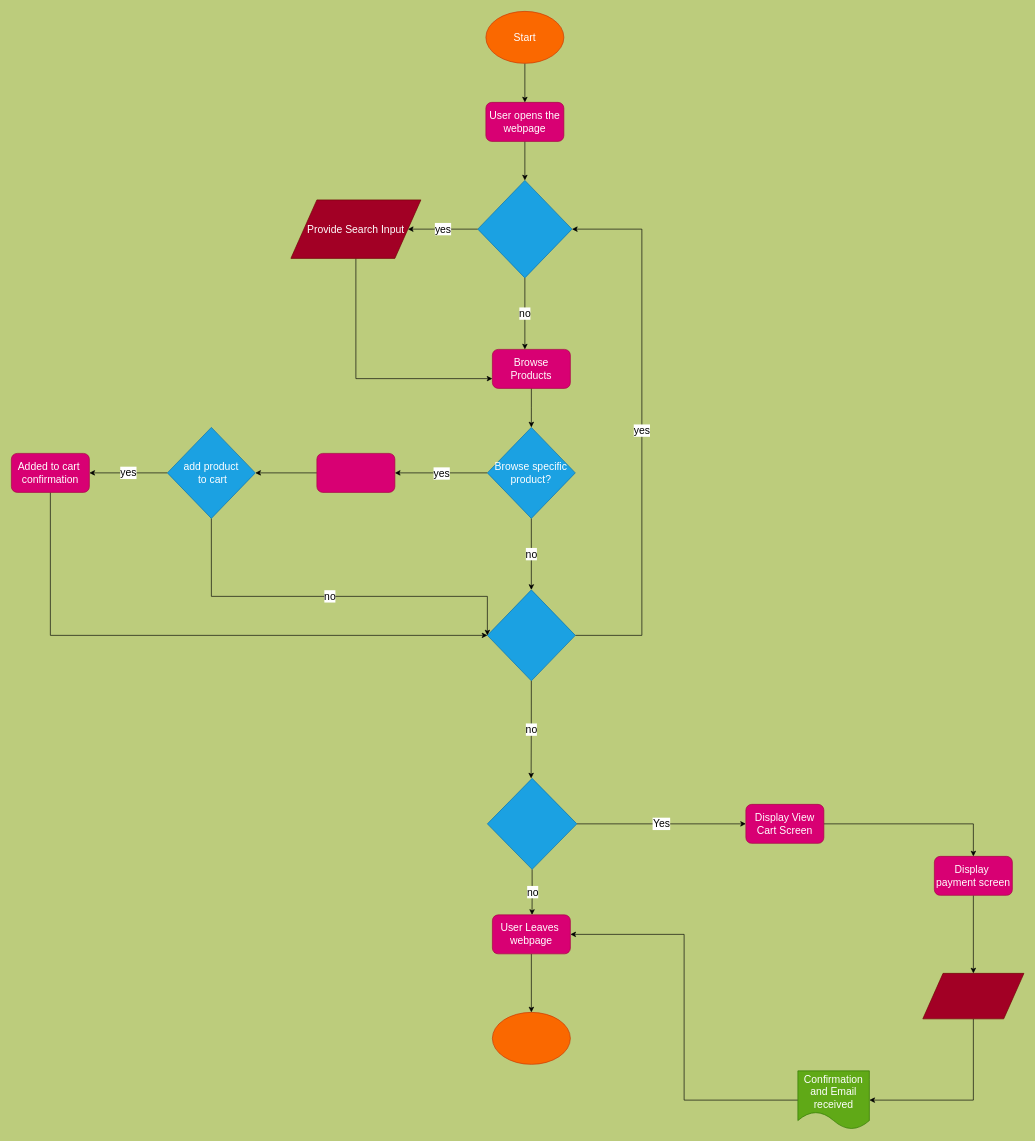
Image size: 1035x1141. Some labels were removed from this diagram. Here are the shapes that lost their labels. From the top down, the box of each, then its label:
(477, 180, 572, 278): Search for a specific product?
(316, 453, 395, 492): Product's webpage opens
(487, 589, 575, 681): Keep Shopping?
(487, 778, 577, 869): Checkout Items?
(922, 973, 1024, 1019): Collect payment info
(492, 1012, 570, 1064): End
